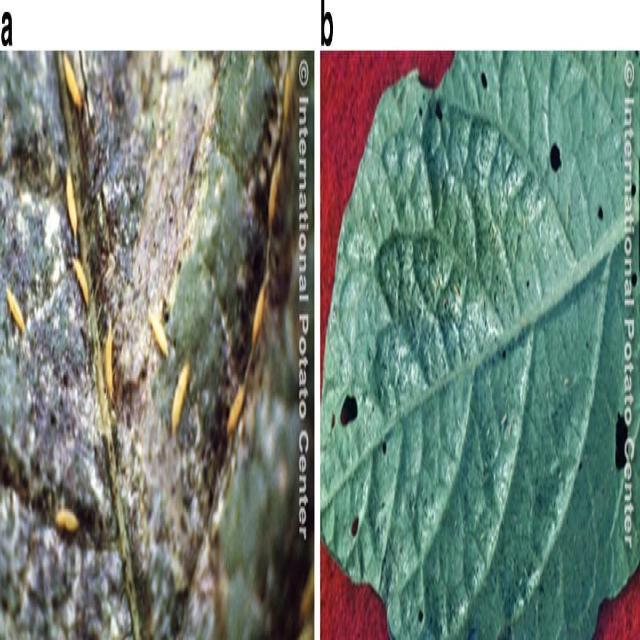Thrip-Larva-: (60, 149, 83, 246), (69, 247, 96, 321), (170, 351, 193, 433), (263, 154, 283, 237), (102, 314, 118, 414), (144, 307, 171, 363), (3, 276, 24, 344), (62, 51, 83, 112), (50, 503, 80, 536), (228, 381, 247, 433), (251, 282, 265, 343)
